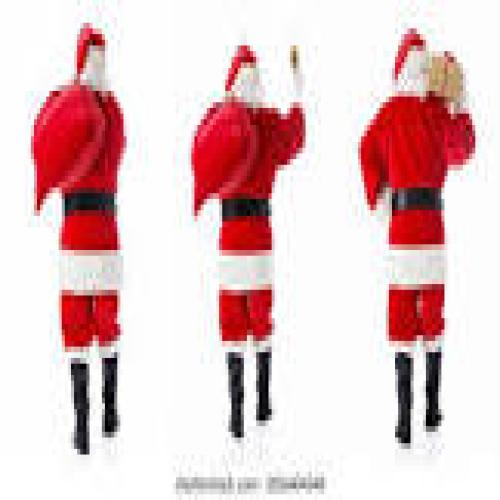Santa: (355, 24, 476, 452), (187, 38, 306, 443), (30, 23, 139, 458)
